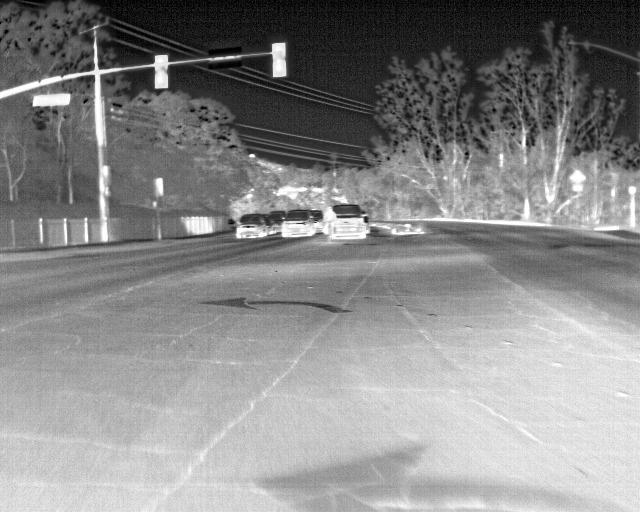car: (324, 203, 370, 239), (234, 212, 271, 236), (282, 209, 314, 235), (309, 210, 329, 232), (268, 209, 287, 231)
